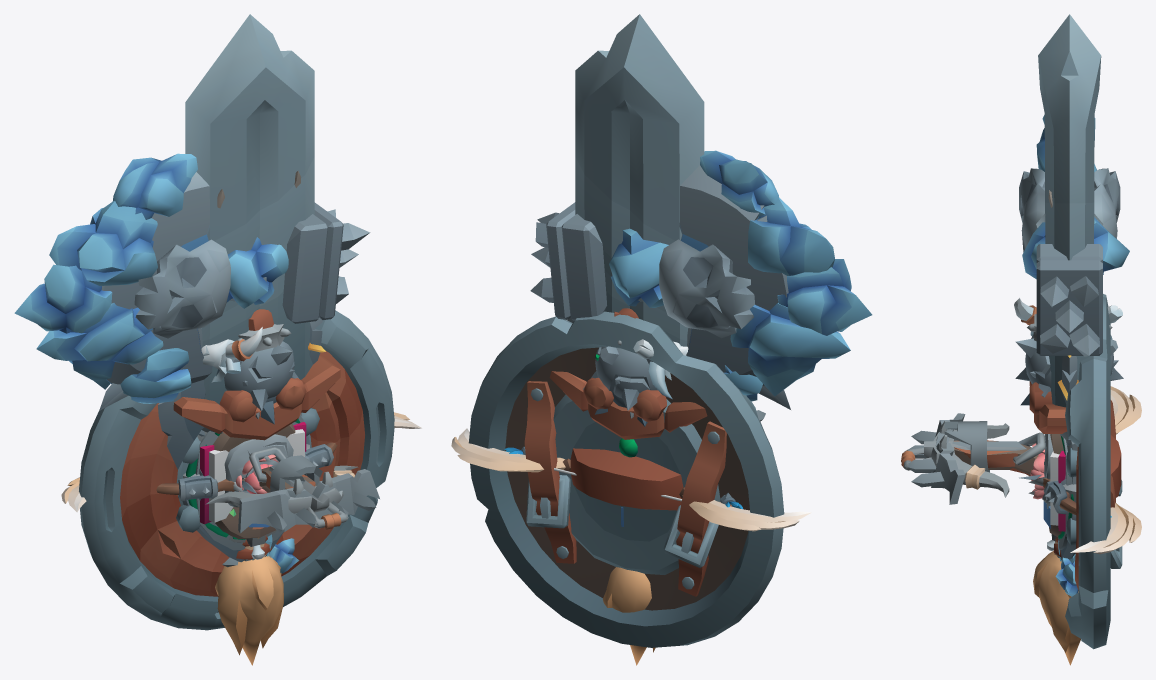
Rendered from kit_weapons2.glb.
3 views of the same model, side by side, from view 1: azimuth 30°, elevation 25°; view 2: azimuth 150°, elevation 25°; view 3: azimuth 270°, elevation 25° (orthographic).
Parts seen in each view (by area): view 1: BlackKnight_Shield_Large, BlackKnight_Sword_Large, FrostGolem_Axe_Large, Skeleton_Golem_Axe_Large, Skeleton_Crossbow, Broom, Skeleton_Shield_Large_A, crossbow_2handed, Skeleton_Mace, bow_B_withString, axe_D, spellbook_open (+4 smaller); view 2: BlackKnight_Shield_Large, BlackKnight_Sword_Large, FrostGolem_Axe_Large, Skeleton_Golem_Axe_Large, bow_C_withString, Skeleton_Mace, Broom, Skeleton_Staff; view 3: BlackKnight_Sword_Large, BlackKnight_Shield_Large, Skeleton_Golem_Axe_Large, Skeleton_Crossbow, crossbow_2handed, FrostGolem_Axe_Large, bow_C_withString, Broom, Skeleton_Mace, Skeleton_Shield_Large_A, bow_B_withString, spellbook_open (+3 smaller).
Part boxes in pixels (<box>): BlackKnight_Shield_Large: <box>79,310,394,630</box>; BlackKnight_Sword_Large: <box>173,14,340,559</box>; FrostGolem_Axe_Large: <box>14,153,299,573</box>; Skeleton_Golem_Axe_Large: <box>101,172,370,567</box>; Skeleton_Crossbow: <box>238,449,379,533</box>; Broom: <box>215,537,283,665</box>; Skeleton_Shield_Large_A: <box>195,415,303,550</box>; crossbow_2handed: <box>205,447,358,529</box>; Skeleton_Mace: <box>224,341,298,410</box>; bow_B_withString: <box>156,442,337,500</box>; axe_D: <box>158,328,205,469</box>; spellbook_open: <box>200,422,306,524</box>; BlackKnight_Shield_Large: <box>468,311,784,647</box>; BlackKnight_Sword_Large: <box>549,14,707,439</box>; FrostGolem_Axe_Large: <box>609,150,872,526</box>; Skeleton_Golem_Axe_Large: <box>530,165,788,385</box>; bow_C_withString: <box>451,428,811,531</box>; Skeleton_Mace: <box>583,346,657,410</box>; Broom: <box>603,567,655,665</box>; Skeleton_Staff: <box>633,339,688,399</box>; BlackKnight_Sword_Large: <box>1029,14,1101,557</box>; BlackKnight_Shield_Large: <box>1065,294,1122,649</box>; Skeleton_Golem_Axe_Large: <box>1019,168,1120,557</box>; Skeleton_Crossbow: <box>904,413,1038,504</box>; crossbow_2handed: <box>901,420,1044,497</box>; FrostGolem_Axe_Large: <box>1022,115,1129,596</box>; bow_C_withString: <box>1070,386,1141,554</box>; Broom: <box>1033,550,1080,665</box>; Skeleton_Mace: <box>1015,334,1123,397</box>; Skeleton_Shield_Large_A: <box>1042,434,1072,549</box>; bow_B_withString: <box>1019,474,1111,517</box>; spellbook_open: <box>1050,451,1065,531</box>.
Size of the model in its own units: 3.23 by 4.95 by 1.66.
17 materials, 17 textured.
